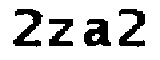2: (10, 6, 47, 51), (113, 6, 150, 50)
a: (80, 16, 113, 50)
z: (46, 16, 78, 49)
